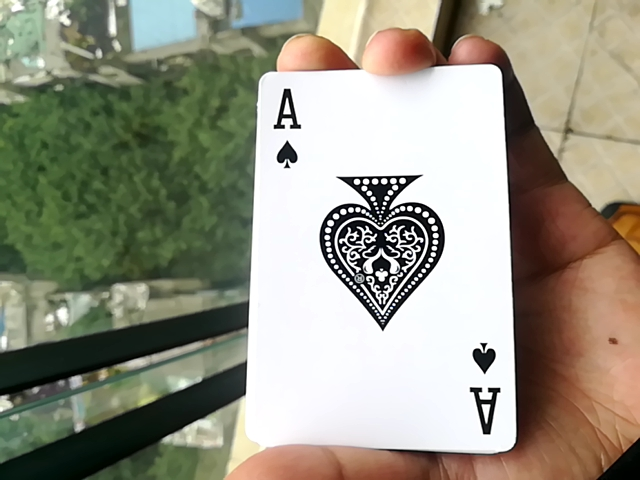ht a: (233, 75, 515, 468)
